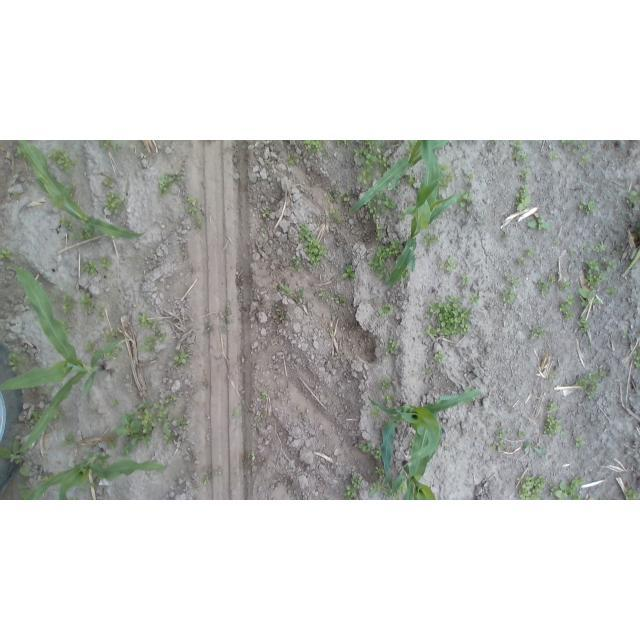Maize: (2, 262, 131, 456), (18, 141, 150, 240), (366, 391, 483, 495), (383, 142, 457, 287), (24, 449, 168, 500), (351, 140, 446, 214), (392, 461, 437, 500)
Weeds: (422, 294, 474, 338), (117, 403, 157, 453), (298, 221, 329, 263), (0, 441, 30, 480), (356, 141, 379, 188), (366, 241, 404, 269), (546, 474, 585, 500), (46, 148, 80, 176), (575, 369, 605, 400), (136, 313, 168, 342), (366, 193, 396, 222), (516, 473, 545, 500), (582, 258, 609, 287), (79, 293, 105, 319), (157, 172, 180, 196), (186, 196, 204, 226), (439, 163, 459, 189), (105, 191, 124, 217), (515, 185, 532, 213), (157, 395, 176, 420), (524, 440, 547, 460), (579, 288, 602, 307), (344, 475, 362, 499), (559, 292, 573, 321), (508, 140, 528, 160), (138, 338, 159, 357), (545, 415, 561, 439), (66, 226, 93, 240), (563, 141, 588, 156), (527, 214, 549, 231), (8, 352, 26, 372), (162, 416, 174, 445), (171, 349, 189, 368), (459, 192, 475, 213), (80, 259, 98, 277), (578, 312, 591, 335), (423, 234, 440, 251), (441, 254, 457, 272), (104, 329, 123, 344), (60, 294, 74, 314), (99, 141, 124, 152), (286, 254, 302, 270), (502, 287, 516, 305), (63, 431, 78, 447), (580, 201, 596, 216), (379, 304, 396, 318), (18, 481, 31, 499), (374, 224, 387, 242), (59, 218, 76, 231), (304, 141, 324, 152), (488, 440, 506, 452), (529, 326, 547, 338), (538, 280, 552, 295), (632, 215, 640, 241), (384, 340, 397, 356), (623, 488, 640, 500), (99, 258, 114, 271), (327, 189, 340, 204), (378, 154, 391, 169), (604, 259, 617, 273), (432, 352, 446, 365), (459, 274, 473, 287), (517, 168, 531, 181), (272, 307, 284, 322), (368, 483, 380, 498), (231, 405, 241, 422), (630, 186, 640, 203), (279, 283, 292, 296), (343, 265, 356, 278), (580, 239, 592, 253), (633, 346, 640, 370), (342, 192, 355, 204), (396, 209, 407, 223), (102, 178, 116, 189), (379, 269, 389, 284), (294, 288, 304, 303), (31, 411, 43, 423), (378, 140, 394, 149), (593, 243, 607, 253), (504, 275, 518, 285), (557, 281, 571, 291), (85, 340, 96, 352), (201, 474, 211, 487), (318, 289, 329, 300), (381, 379, 392, 390), (357, 444, 370, 453), (467, 174, 476, 187), (1, 250, 12, 260), (373, 465, 383, 476), (547, 399, 558, 409), (515, 257, 526, 267), (177, 418, 189, 427), (409, 175, 418, 187), (65, 185, 75, 195), (334, 295, 344, 305), (421, 367, 431, 377), (386, 393, 395, 404), (614, 245, 623, 256), (579, 156, 590, 165), (548, 152, 558, 161), (470, 294, 480, 303), (406, 141, 414, 152), (370, 410, 379, 419), (287, 157, 297, 165), (371, 450, 381, 458), (574, 436, 582, 446), (337, 140, 350, 146), (106, 352, 121, 357), (329, 209, 338, 217), (398, 484, 406, 493), (336, 217, 344, 226), (518, 428, 527, 436), (568, 248, 577, 256), (250, 452, 257, 462), (462, 388, 476, 393), (556, 237, 563, 247), (502, 232, 509, 242), (560, 430, 566, 441), (262, 211, 270, 219), (607, 288, 615, 296), (497, 430, 505, 438), (261, 390, 267, 400), (585, 496, 599, 500), (622, 331, 628, 340), (549, 372, 555, 381), (530, 140, 540, 145), (109, 442, 116, 449), (261, 413, 268, 420), (391, 494, 399, 500), (547, 276, 555, 282), (525, 249, 533, 255), (492, 140, 498, 145), (215, 470, 222, 474), (481, 222, 486, 226), (457, 141, 463, 144)
